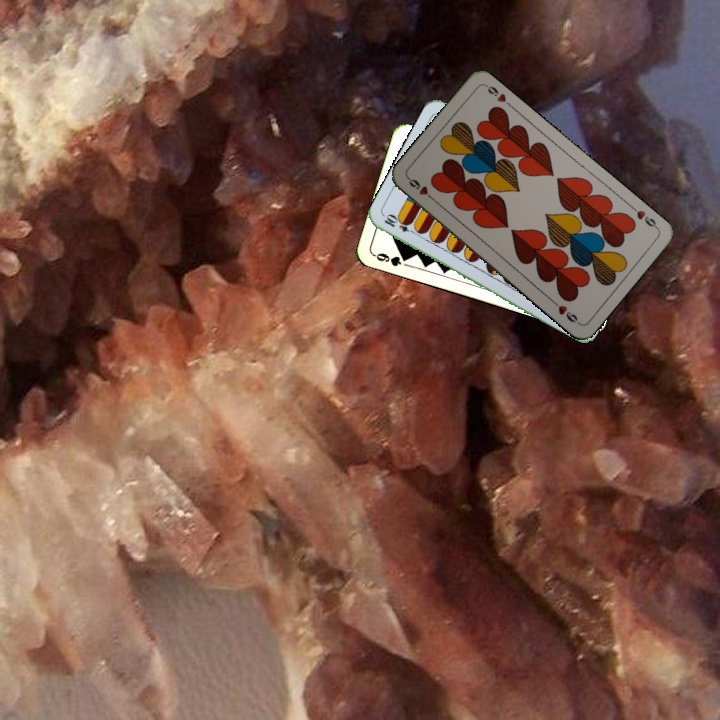E10: (380, 211, 419, 237)
G9: (370, 249, 412, 269)
H9: (404, 173, 438, 204), (626, 201, 660, 231)
